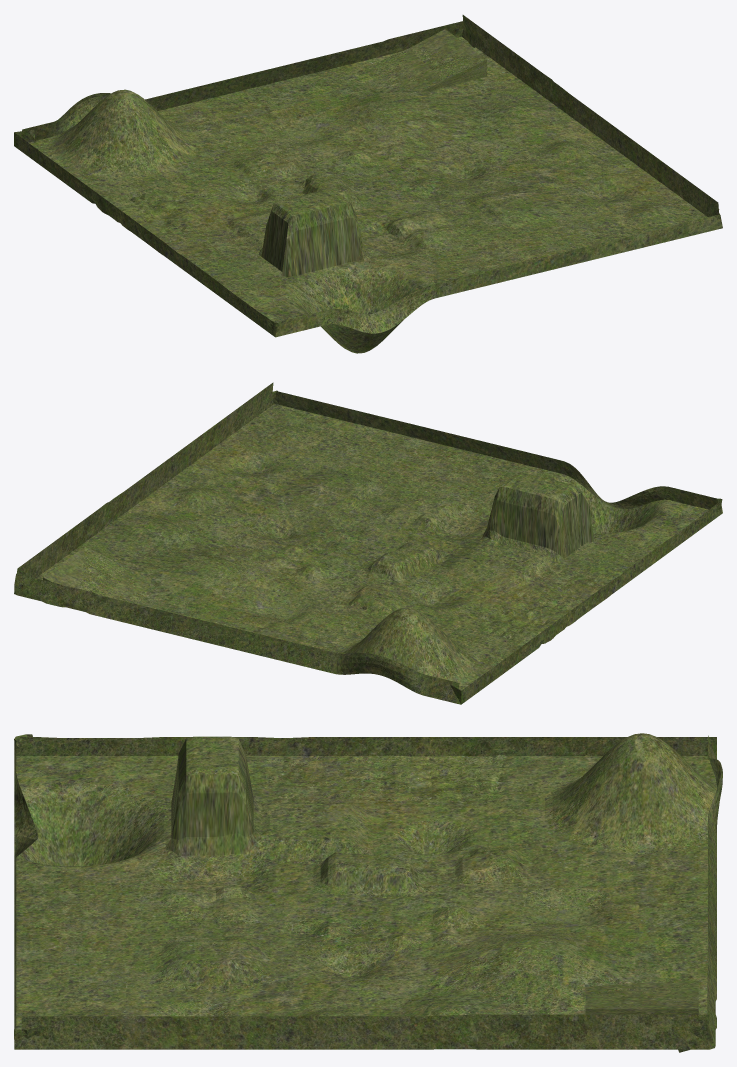
Rendered from mapNEW_error.dae.
The picture shows the model from 3 angles, top to bottom: view 1: azimuth 30°, elevation 25°; view 2: azimuth 150°, elevation 25°; view 3: azimuth 270°, elevation 25°; orthographic projection. The views are drawn at different scales.
Visible parts, largest first — view 1: Plane, Cube; view 2: Plane, Cube; view 3: Plane, Cube.
Boxes of the visible parts, x1=… form: Plane: x1=14, y1=15, x2=722, y2=353; Cube: x1=367, y1=29, x2=486, y2=91; Plane: x1=14, y1=382, x2=722, y2=704; Cube: x1=43, y1=546, x2=151, y2=603; Plane: x1=14, y1=733, x2=722, y2=1052; Cube: x1=585, y1=983, x2=698, y2=1014.
Bounding box in the file's own units: 55.58 × 56.35 × 13.22.
